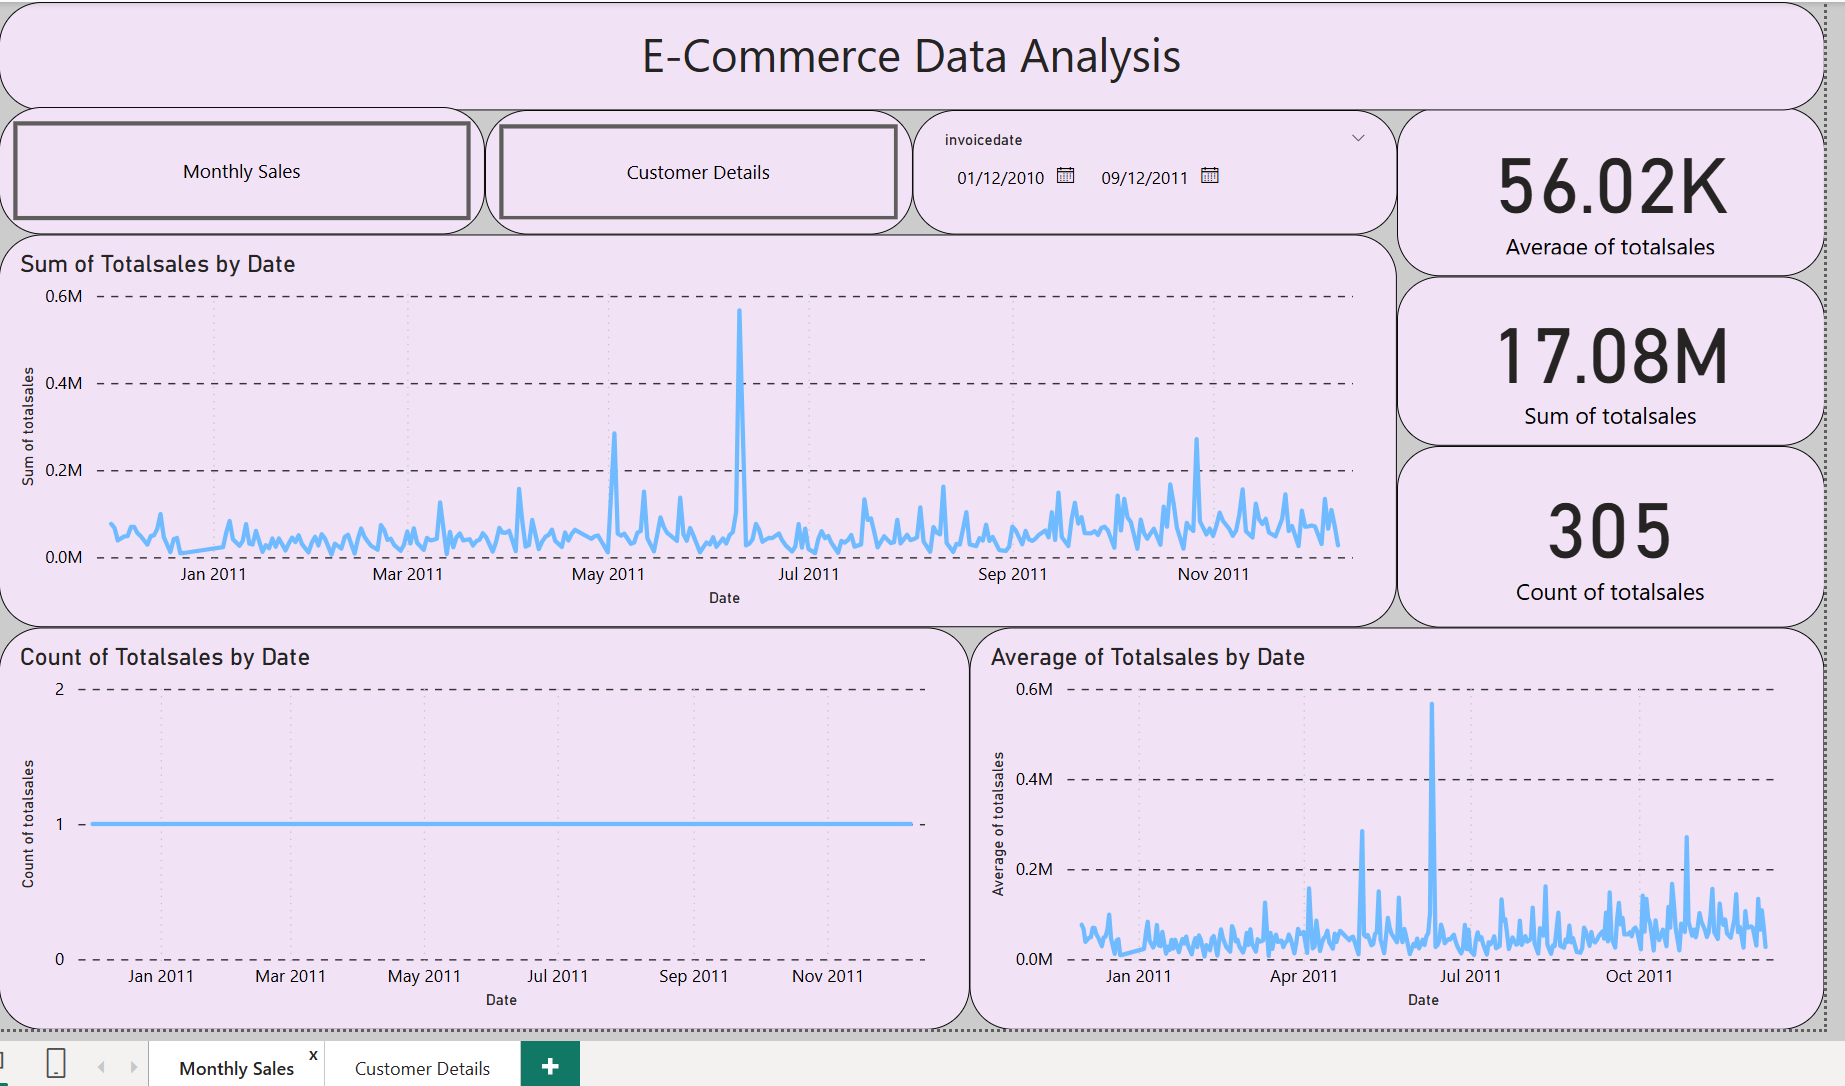

What the dashboard file says about the page in this screenshot:
{"tool":"powerbi","page":{"name":"Page 1","canvas":[1280,720],"ordinal":0},"visuals":[{"type":"lineChart","fields":{"Y":["Sum(daily_sales.totalsales)"],"Category":["daily_sales.invoicedate.Variation.Date Hierarchy.Month"]},"box":[8.4,252.4,329.2,216.6],"z":0},{"type":"barChart","fields":{"Y":["Sum(customer_data.customerid)"],"Category":["customer_data.cluster"]},"box":[360.7,289.2,279.7,179.8],"z":1},{"type":"card","fields":{"Values":["Sum(daily_sales.totalsales)"]},"box":[952.8,147.2,327.1,118.8],"z":3},{"type":"card","fields":{"Values":["CountNonNull(daily_sales.invoicedate)"]},"box":[952.8,300.8,327.1,118.8],"z":4},{"type":"card","fields":{"Values":["Avg(daily_sales.totalsales)"]},"box":[952.8,450.1,327.1,118.8],"z":5},{"type":"card","fields":{"Values":["Count(customer_data.customerid)"]},"box":[952.8,601.5,327.1,118.8],"z":6},{"type":"barChart","fields":{"Y":["Sum(customer_data.customerid)"],"Category":["daily_sales.totalsales"]},"box":[360.7,491.1,279.7,229.3],"z":7},{"type":"columnChart","fields":{"Category":["daily_sales.unitprice"],"Y":["Sum(daily_sales.quantity)"]},"box":[360.7,99.9,279.7,166.2],"z":8},{"type":"scatterChart","fields":{"X":["Sum(customer_data.quantity)"],"Y":["Sum(customer_data.unitprice)"],"Series":["customer_data.cluster"]},"box":[654.1,379.6,279.7,340.7],"z":9},{"type":"lineChart","fields":{"Category":["daily_sales.invoicedate.Variation.Date Hierarchy.Month"],"Y":["CountNonNull(daily_sales.totalsales)"]},"box":[7.4,491.1,330.2,229.3],"z":10},{"type":"lineChart","fields":{"Y":["Avg(daily_sales.totalsales)"],"Category":["daily_sales.invoicedate.Variation.Date Hierarchy.Month"]},"box":[7.4,18.9,330.2,216.6],"z":11},{"type":"card","fields":{"Values":["Avg(daily_sales.quantity)"]},"box":[952.8,8.4,327.1,118.8],"z":12},{"type":"textbox","box":[360.7,18.9,397.5,57.8],"z":13},{"type":"slicer","fields":{"Values":["forecast_series.Date"]},"box":[654.1,99.9,120.9,107.3],"z":14},{"type":"slicer","fields":{"Values":["customer_data.cluster"]},"box":[802.4,99.9,120.9,107.3],"z":15},{"type":"card","fields":{"Values":["CountNonNull(daily_sales.totalsales)"]},"box":[654.1,235.6,269.2,107.3],"z":16}]}

Visuals, with their boxes on the page's 1280x720 design canvas (x1, y1, x2, y2). These are canvas units, not pixel positions in the 1845x1086 screenshot, which may show the page scaled, cropped or inside an application window:
lineChart - Sum(daily_sales.totalsales) x daily_sales.invoicedate.Variation.Date Hierarchy.Month: (x1=8, y1=252, x2=338, y2=469)
barChart - Sum(customer_data.customerid) x customer_data.cluster: (x1=361, y1=289, x2=640, y2=469)
card - Sum(daily_sales.totalsales): (x1=953, y1=147, x2=1280, y2=266)
card - CountNonNull(daily_sales.invoicedate): (x1=953, y1=301, x2=1280, y2=420)
card - Avg(daily_sales.totalsales): (x1=953, y1=450, x2=1280, y2=569)
card - Count(customer_data.customerid): (x1=953, y1=602, x2=1280, y2=720)
barChart - Sum(customer_data.customerid) x daily_sales.totalsales: (x1=361, y1=491, x2=640, y2=720)
columnChart - daily_sales.unitprice x Sum(daily_sales.quantity): (x1=361, y1=100, x2=640, y2=266)
scatterChart - Sum(customer_data.quantity) x Sum(customer_data.unitprice): (x1=654, y1=380, x2=934, y2=720)
lineChart - daily_sales.invoicedate.Variation.Date Hierarchy.Month x CountNonNull(daily_sales.totalsales): (x1=7, y1=491, x2=338, y2=720)
lineChart - Avg(daily_sales.totalsales) x daily_sales.invoicedate.Variation.Date Hierarchy.Month: (x1=7, y1=19, x2=338, y2=236)
card - Avg(daily_sales.quantity): (x1=953, y1=8, x2=1280, y2=127)
textbox: (x1=361, y1=19, x2=758, y2=77)
slicer - forecast_series.Date: (x1=654, y1=100, x2=775, y2=207)
slicer - customer_data.cluster: (x1=802, y1=100, x2=923, y2=207)
card - CountNonNull(daily_sales.totalsales): (x1=654, y1=236, x2=923, y2=343)
